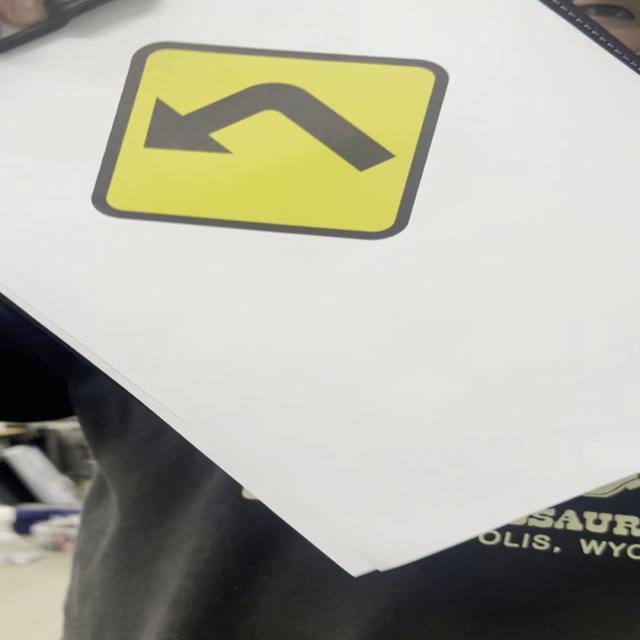left: (93, 41, 451, 240)
